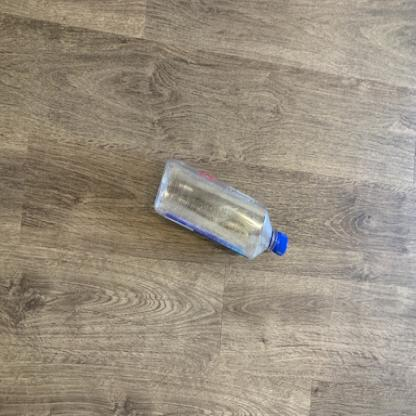trash: (154, 156, 288, 263)
